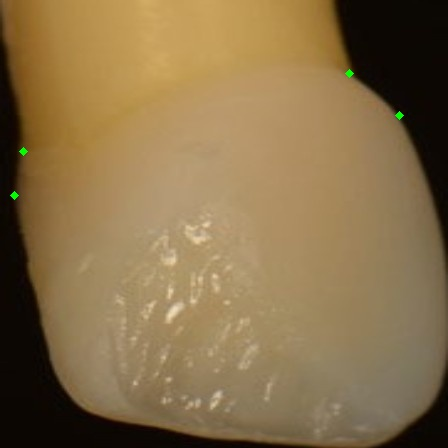coin_1: (23, 151, 43, 171)
coin_2: (14, 195, 34, 215)
coin_3: (349, 73, 369, 93)
coin_4: (399, 115, 419, 135)
